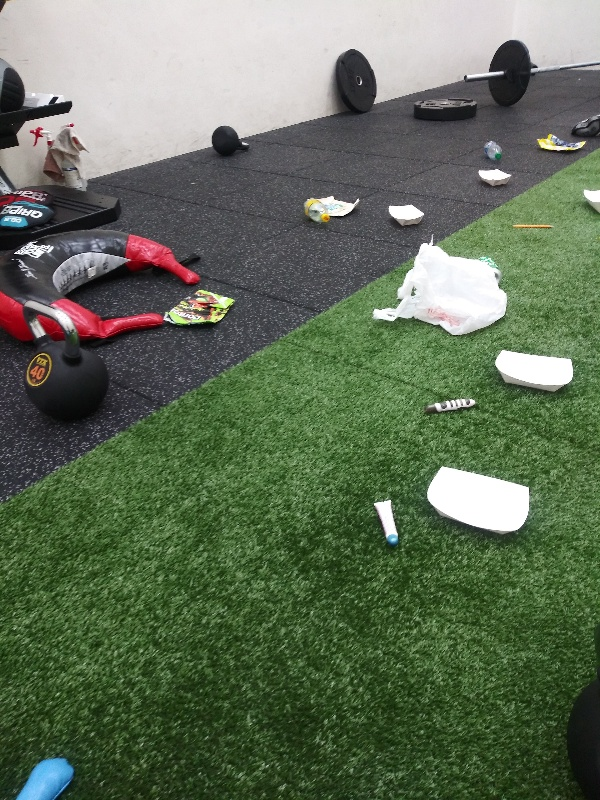bag: (161, 282, 242, 329), (534, 130, 587, 157), (316, 190, 363, 216)
bottle: (479, 135, 510, 163)
can: (477, 254, 505, 280)
plate: (423, 460, 533, 544), (489, 342, 577, 397), (385, 200, 425, 230), (476, 160, 515, 189), (580, 182, 600, 212)
